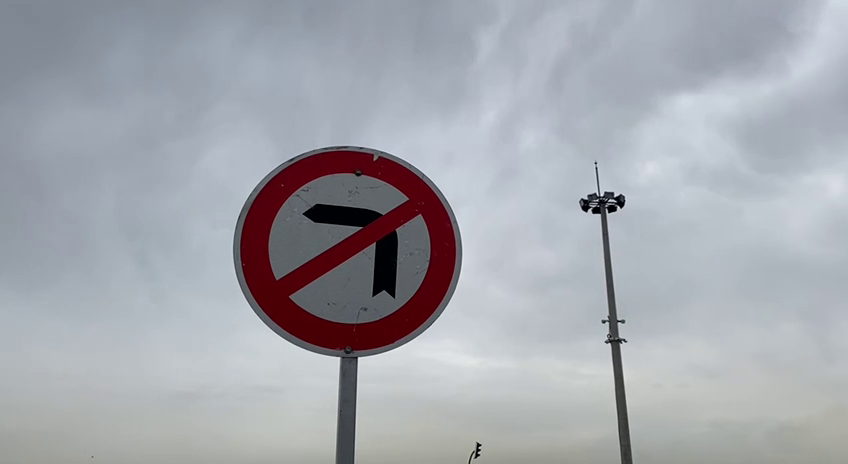noTurnLeft: (227, 140, 468, 363)
